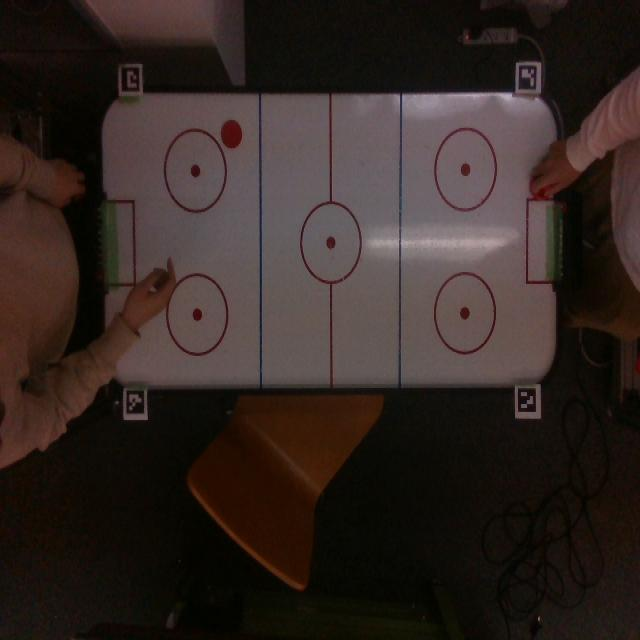puck: (221, 120, 242, 148)
